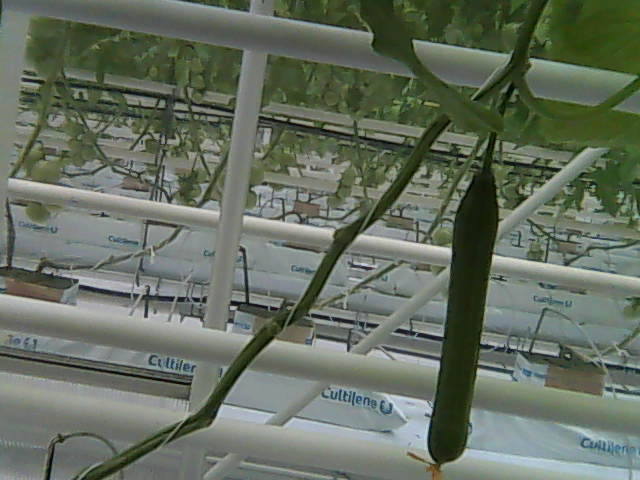concombre: (424, 157, 506, 480)
